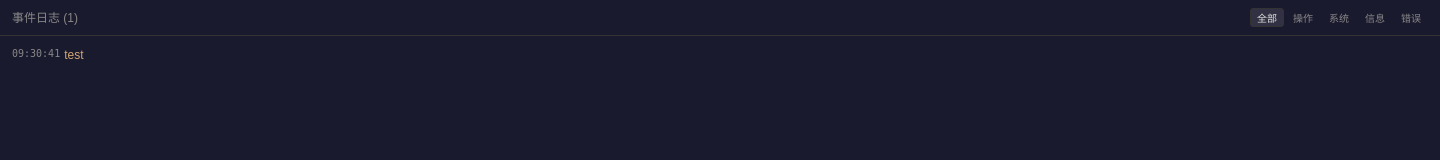
Test: EventLog › filtering › should show empty state when filter matches nothing
Click the button "错误".
click(1411, 18)  # box [1394, 8, 1428, 27]
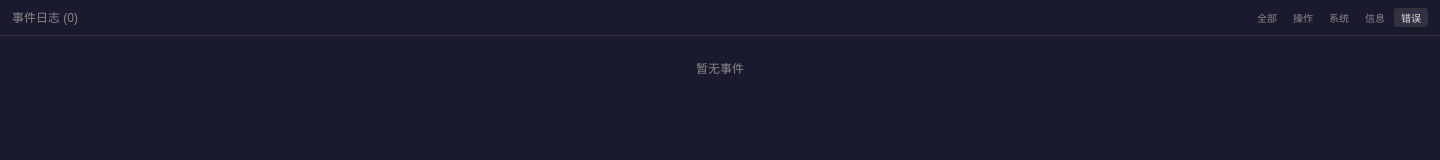
Check: the text "暂无事件" is shown, box [696, 62, 744, 76]
